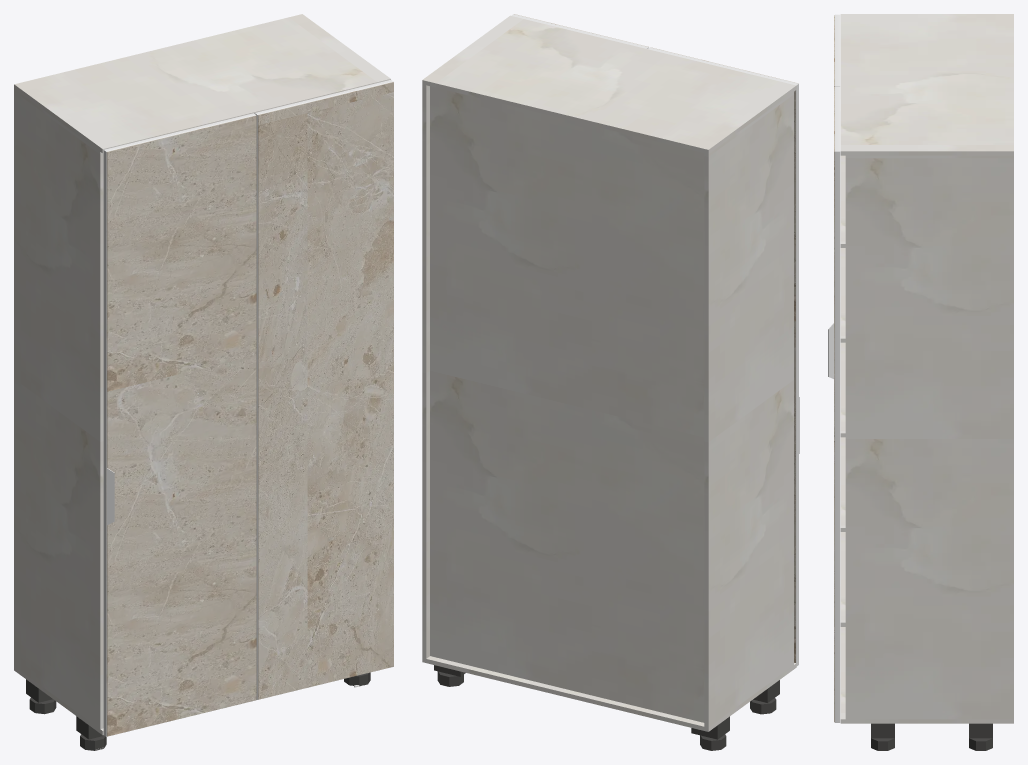
Rendered from S550_TBC5S1HS_RH (H2040XW1050XD560).glb.
3 views of the same model, side by side, from view 1: azimuth 30°, elevation 25°; view 2: azimuth 150°, elevation 25°; view 3: azimuth 270°, elevation 25° (orthographic). The views are drawn at different scales.
Size of what is drawn, in the model's own units: 1.05 by 2.14 by 0.6.
Materials: 5 (2 with a texture image).
